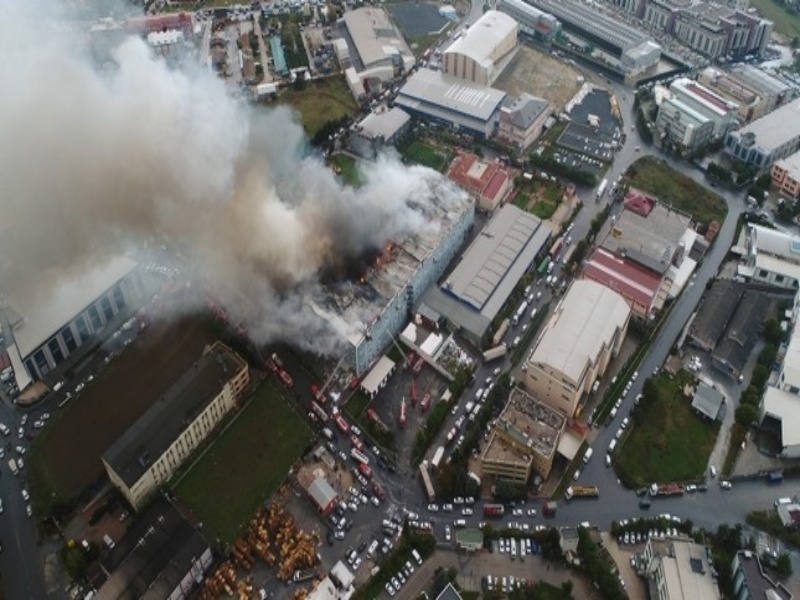smoke: (1, 31, 298, 328)
